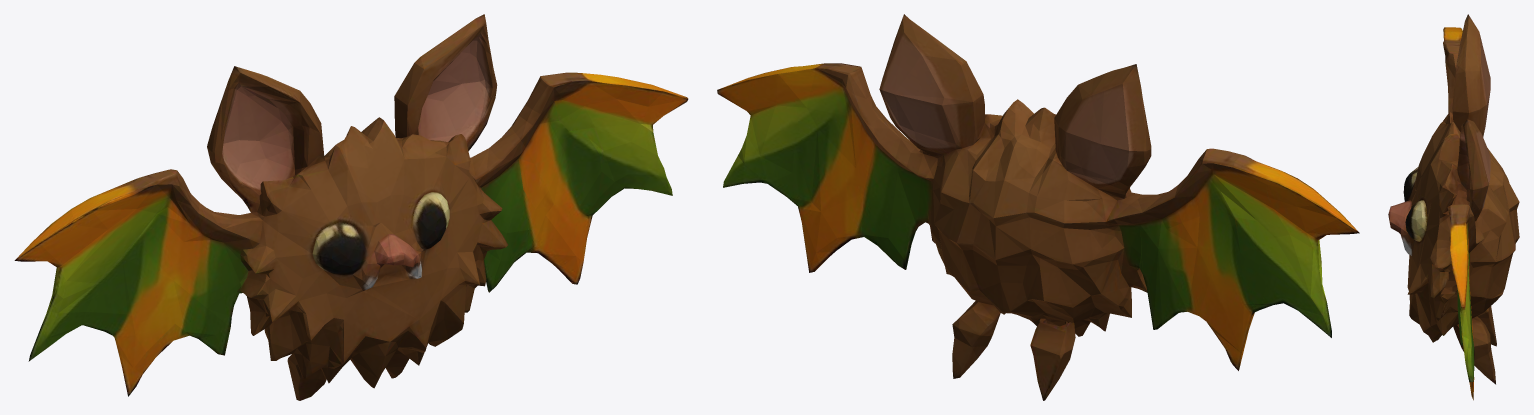
The model's file is monstre_chauve_souris_feuille.glb.
The picture shows the model from 3 angles, left to right: view 1: azimuth 30°, elevation 25°; view 2: azimuth 150°, elevation 25°; view 3: azimuth 270°, elevation 25°; orthographic projection. The views are drawn at different scales.
Visible parts, largest first — view 1: geometry_0; view 2: geometry_0; view 3: geometry_0.
Part boxes in pixels (x1=…): geometry_0: x1=14, y1=14, x2=688, y2=400; geometry_0: x1=717, y1=14, x2=1359, y2=400; geometry_0: x1=1388, y1=14, x2=1519, y2=400.
Bounding box in the file's own units: 0.9959 × 0.5148 × 0.2043.
Materials: 1 (1 with a texture image).
